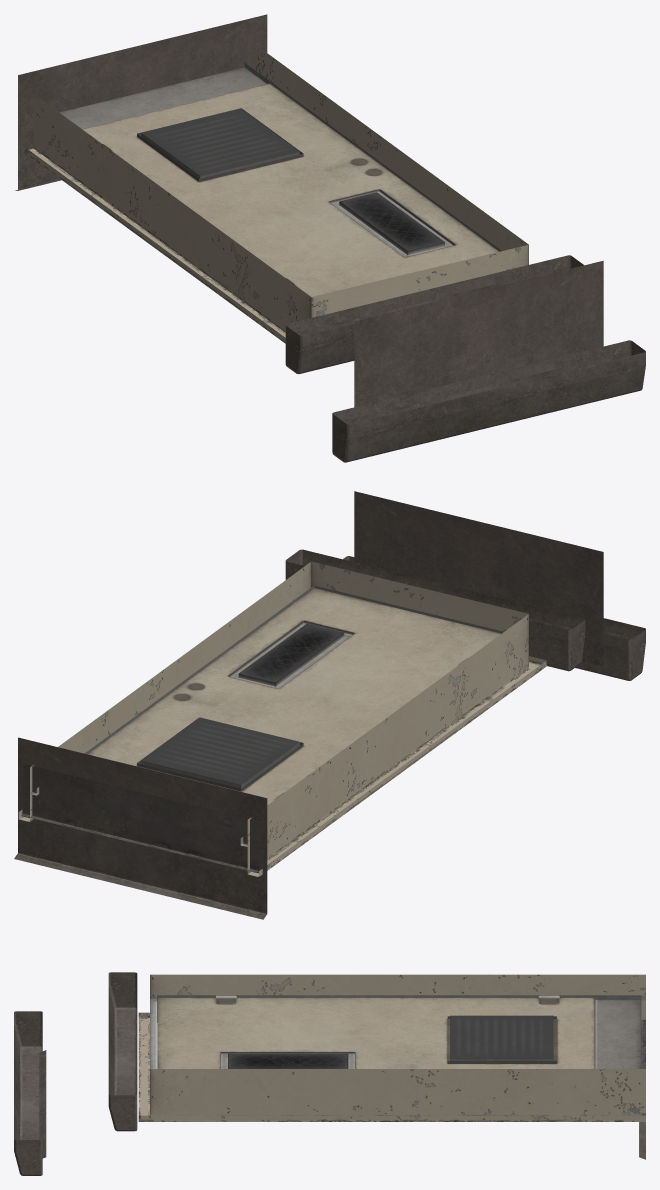
Rendered from door_recessed_small_01.gltf.
The picture shows the model from 3 angles, top to bottom: view 1: azimuth 30°, elevation 25°; view 2: azimuth 150°, elevation 25°; view 3: azimuth 270°, elevation 25°; orthographic projection. The views are drawn at different scales.
Visible parts, largest first — view 1: door_recessed_small_01; view 2: door_recessed_small_01; view 3: door_recessed_small_01.
Boxes of the visible parts, x1,y1,x2,y2 form: door_recessed_small_01: [15, 14, 645, 462]; door_recessed_small_01: [14, 491, 645, 919]; door_recessed_small_01: [14, 972, 645, 1175].
Bounding box in the file's own units: 1.32 × 0.53 × 2.74.
Materials: 3 (3 with a texture image).
